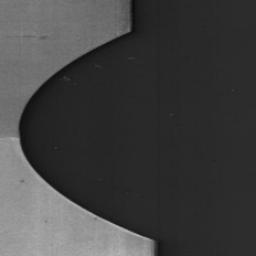Crescent gap: (18, 32, 153, 240)
